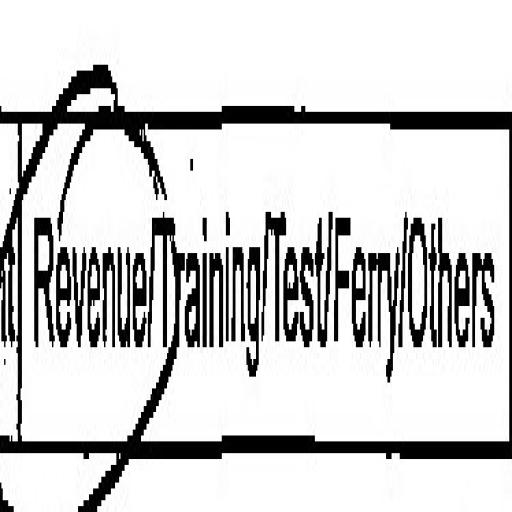check: (14, 46, 156, 512)
